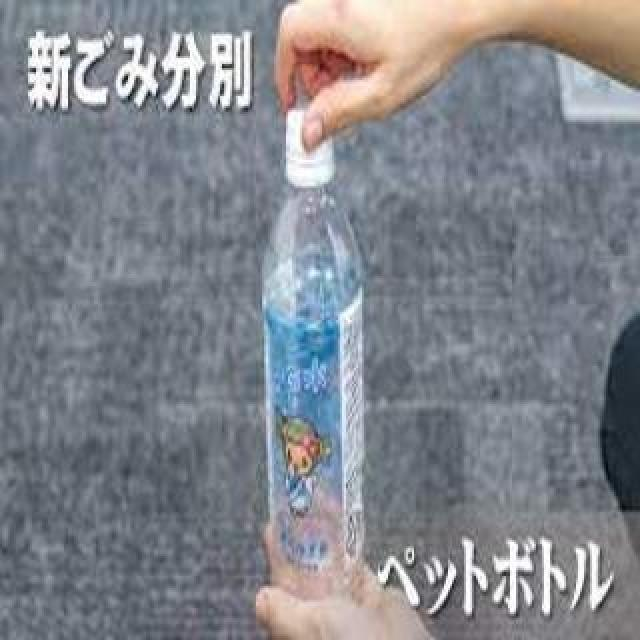Pet_Bottle: (257, 117, 371, 613)
